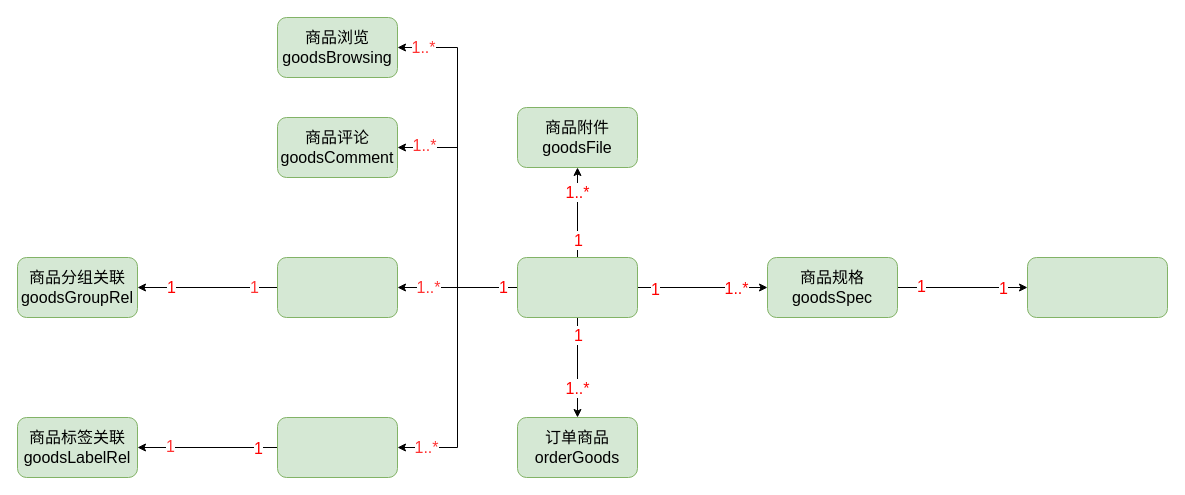
This 1185x495 diagram has some shape labels left out. Here are the shapes that lost their labels. From the top down, the centre of each, then its label:
At (337,287): "商品分组 goodsGroup".
At (577,287): "商品 goods".
At (1097,287): "商品规格详情 goodsSpecDetails".
At (337,447): "商品标签 goodsLabel".
